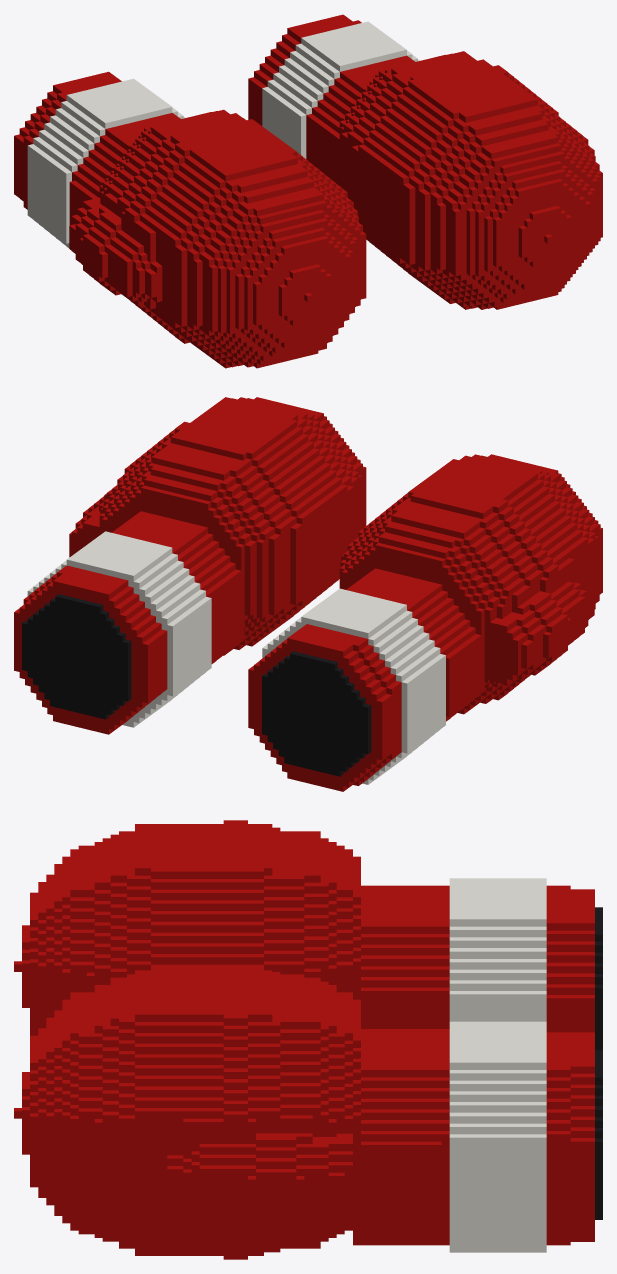
File: boxing_gloves.glb
3 renders of one model, top to bottom at view 1: azimuth 30°, elevation 25°; view 2: azimuth 150°, elevation 25°; view 3: azimuth 270°, elevation 25°, orthographic. The views are drawn at different scales.
Parts seen in each view (by area): view 1: boxing_gloves:compound; view 2: boxing_gloves:compound; view 3: boxing_gloves:compound.
Boxes of the visible parts, box(x1,y1,x2,y2) form: boxing_gloves:compound: box(14, 14, 602, 368); boxing_gloves:compound: box(14, 397, 602, 791); boxing_gloves:compound: box(14, 820, 602, 1259).
Bounding box in the file's own units: 0.336 × 0.132 × 0.292.
